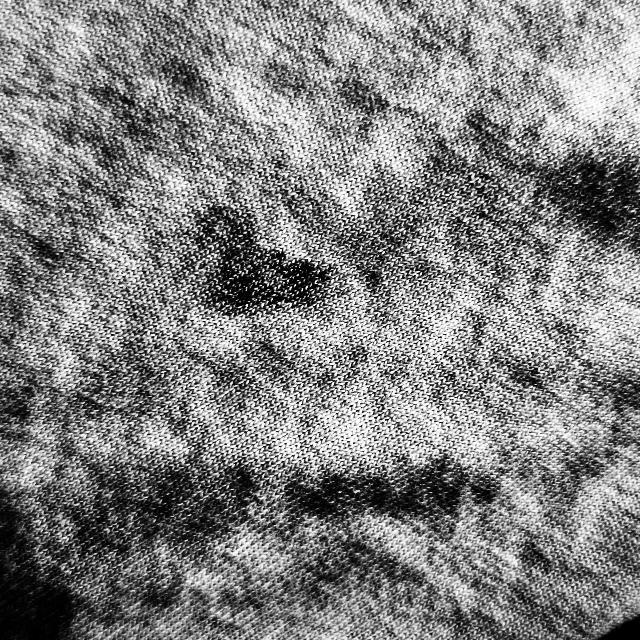Color_defect: (190, 203, 335, 316)
